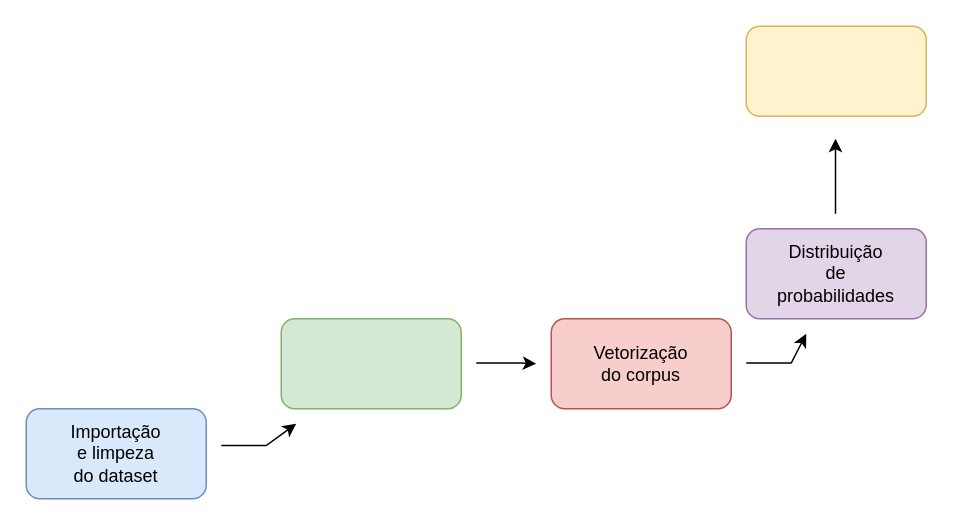
Some shapes in this 953 by 525 pixel diagram are drawn without their labels. The centre of each missing label's shape, as x and y in pixels:
Aspectos extraídos: point 835,70
Extração de aspectos candidatos: point 370,363
